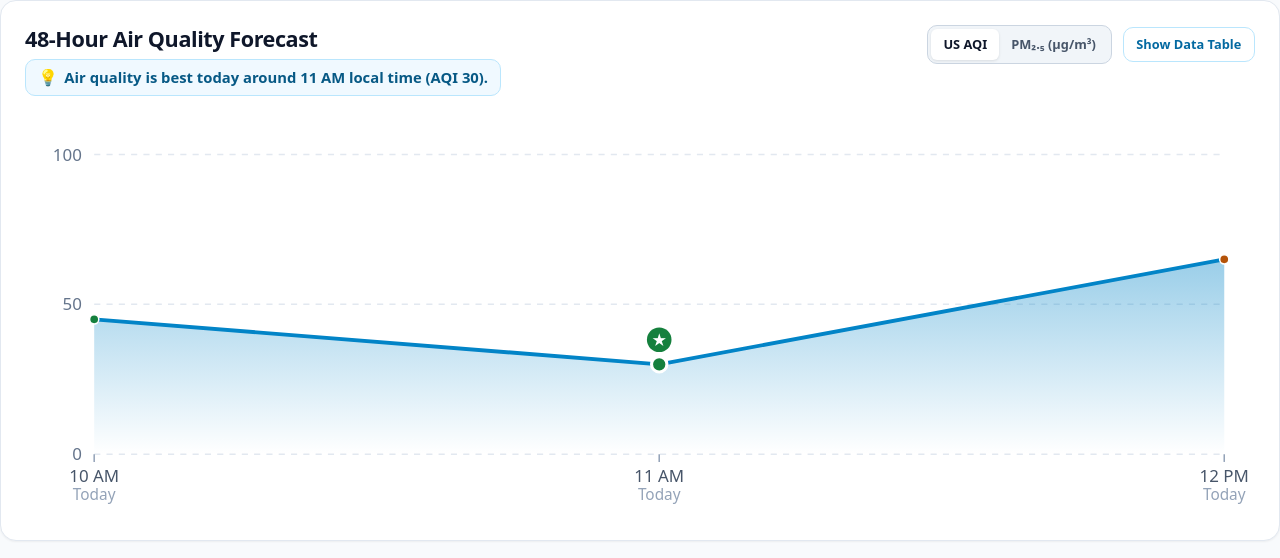
Test: ForecastChart Component › toggles accessible data table view
The width and height of the screenshot is (1280, 558).
Click the button "Show Data Table".
click(1189, 44)  # box [1122,27,1255,62]
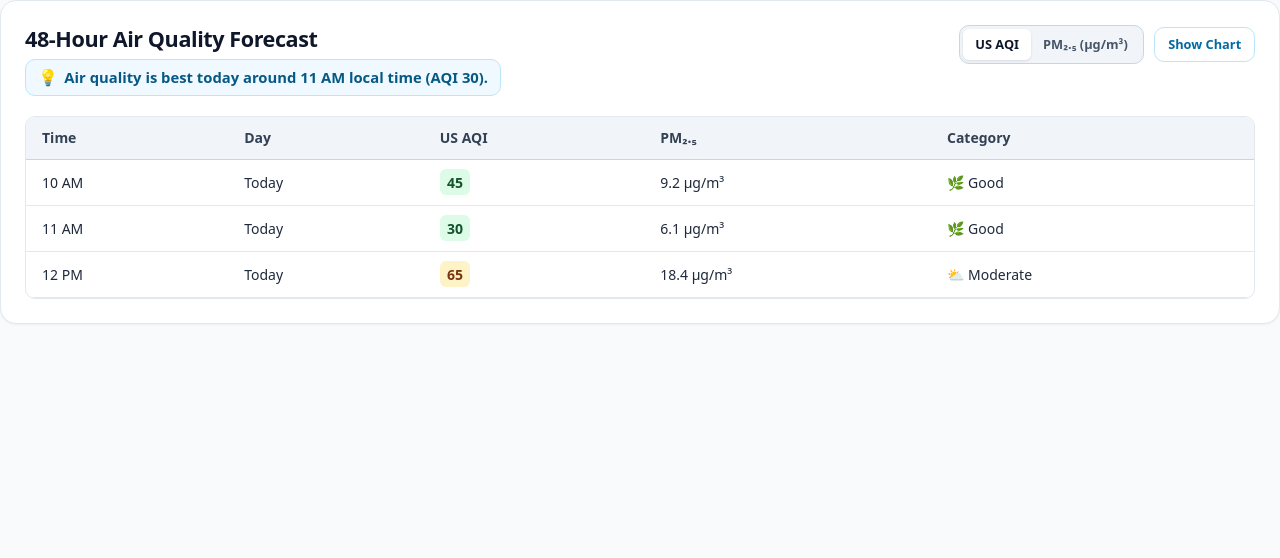
Expected: the text "10 AM" is shown, [26,160,228,205]
Result: the table is shown at [26,117,1254,298]
# Toggle back to chart
Click the button "Show Chart".
click(1205, 44)  # box [1154,27,1255,62]
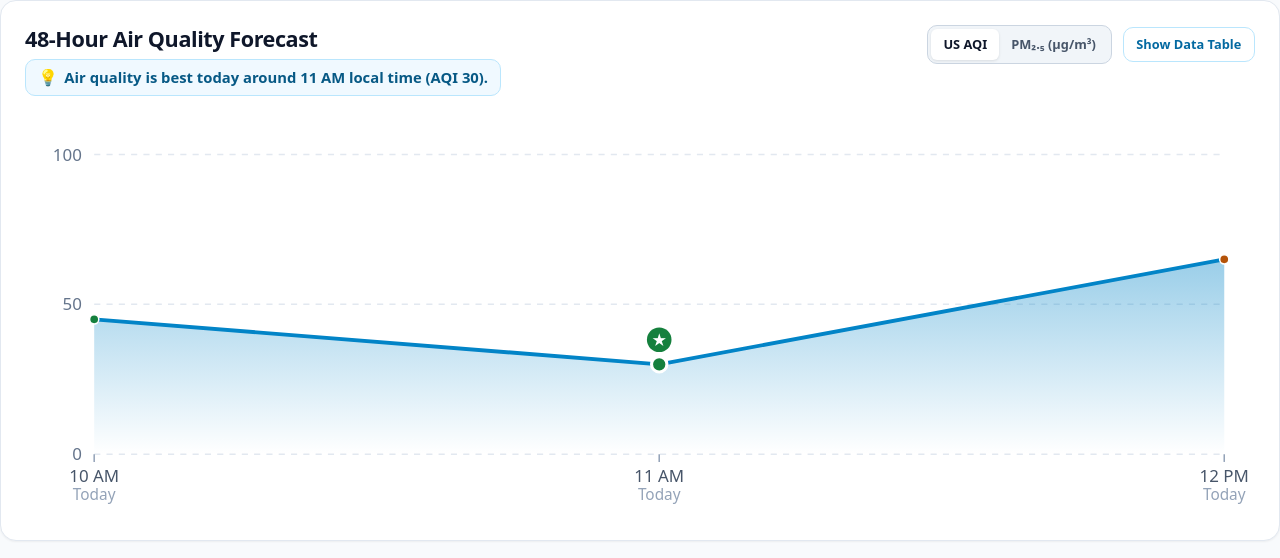
Result: the table is gone
Result: the picture is shown
